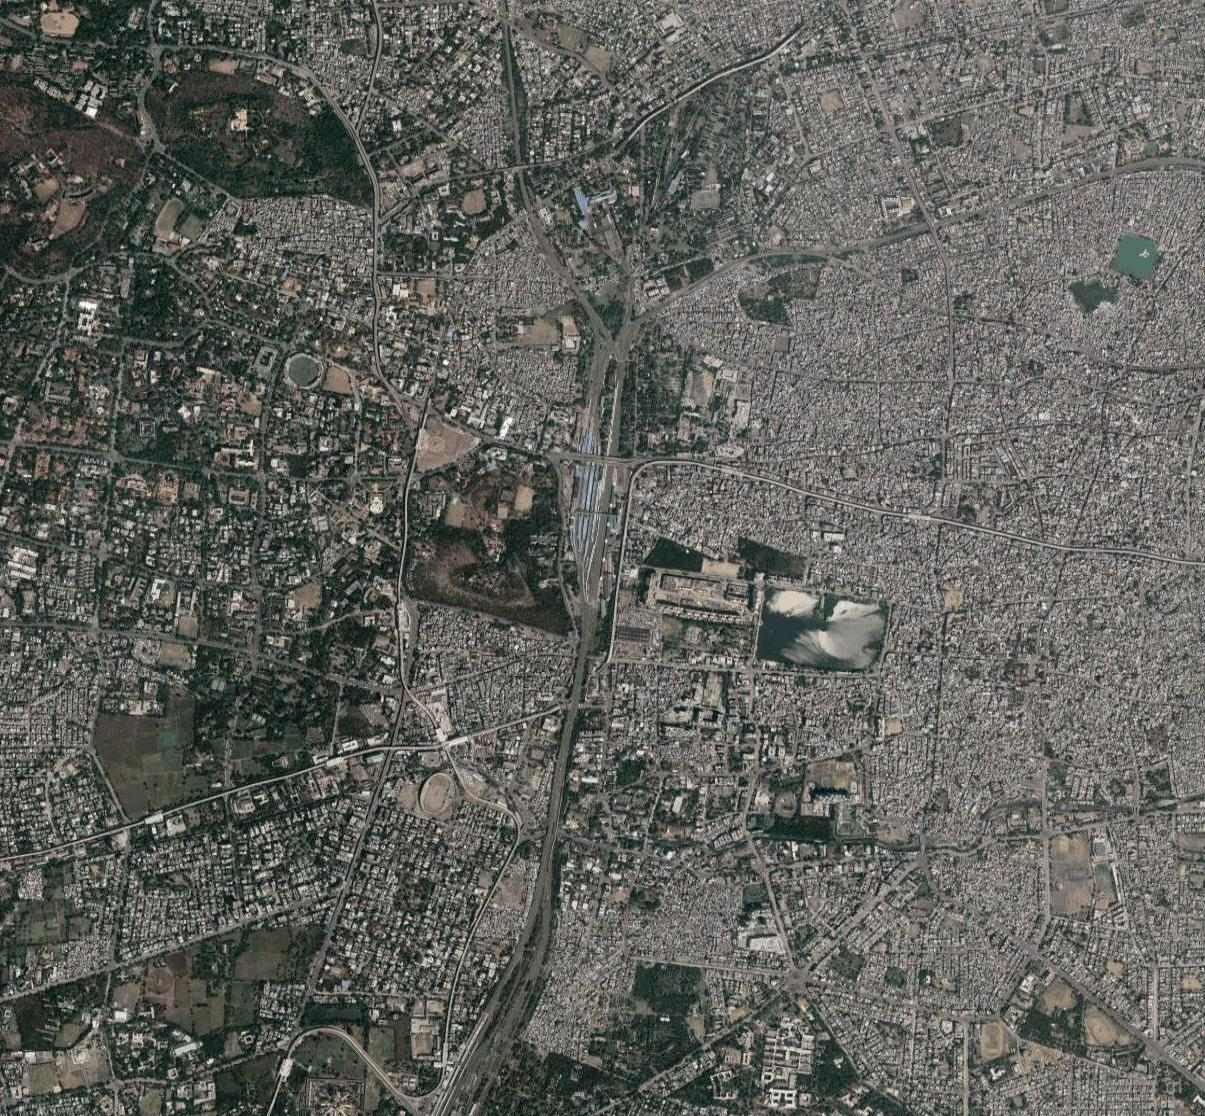bridge: (572, 450, 616, 466)
train_station: (567, 440, 615, 580)
